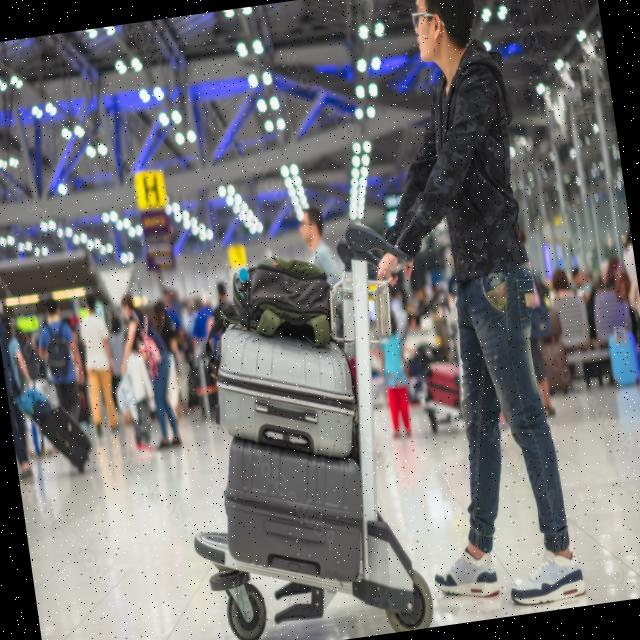Person: (337, 0, 588, 621)
